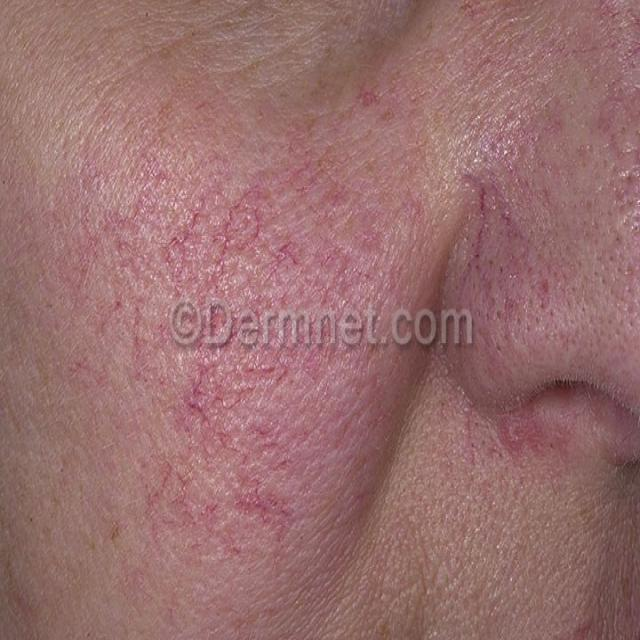Rosacea: (70, 143, 382, 568), (451, 144, 640, 353)
